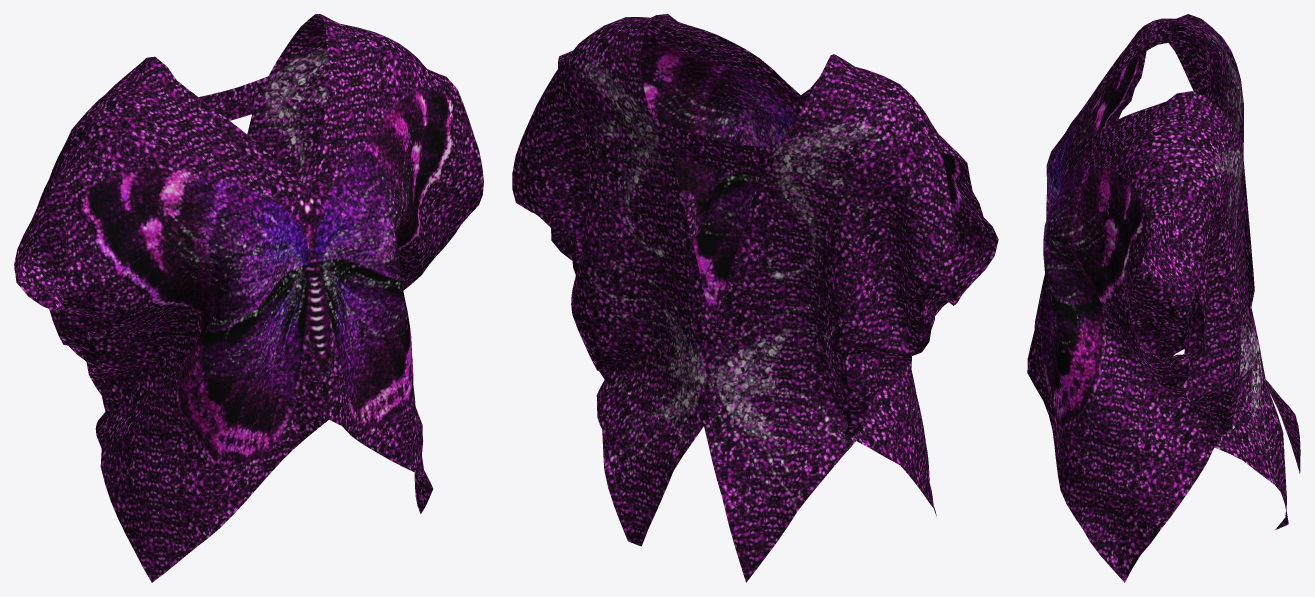
Rendered from elvs-disco-top-1-butterfly.glb.
The picture shows the model from 3 angles, left to right: view 1: azimuth 30°, elevation 25°; view 2: azimuth 150°, elevation 25°; view 3: azimuth 270°, elevation 25°; orthographic projection. The views are drawn at different scales.
Parts seen in each view (by area): view 1: disco top 1 butterfly; view 2: disco top 1 butterfly; view 3: disco top 1 butterfly.
Part boxes in pixels (x1,y1,x2,y2): disco top 1 butterfly: (14,14,483,582); disco top 1 butterfly: (512,14,998,582); disco top 1 butterfly: (1027,14,1300,582).
Size of the model in its own units: 55.59 by 59.76 by 31.98.
1 material, 1 textured.
